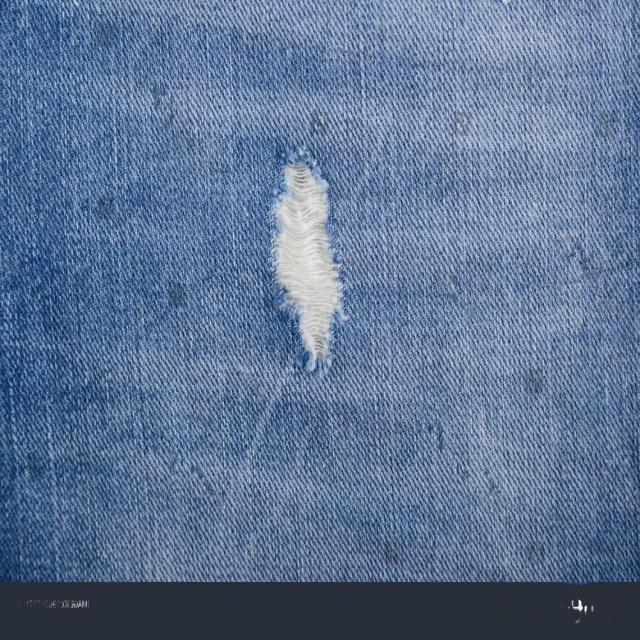Hole: (271, 148, 343, 373)
